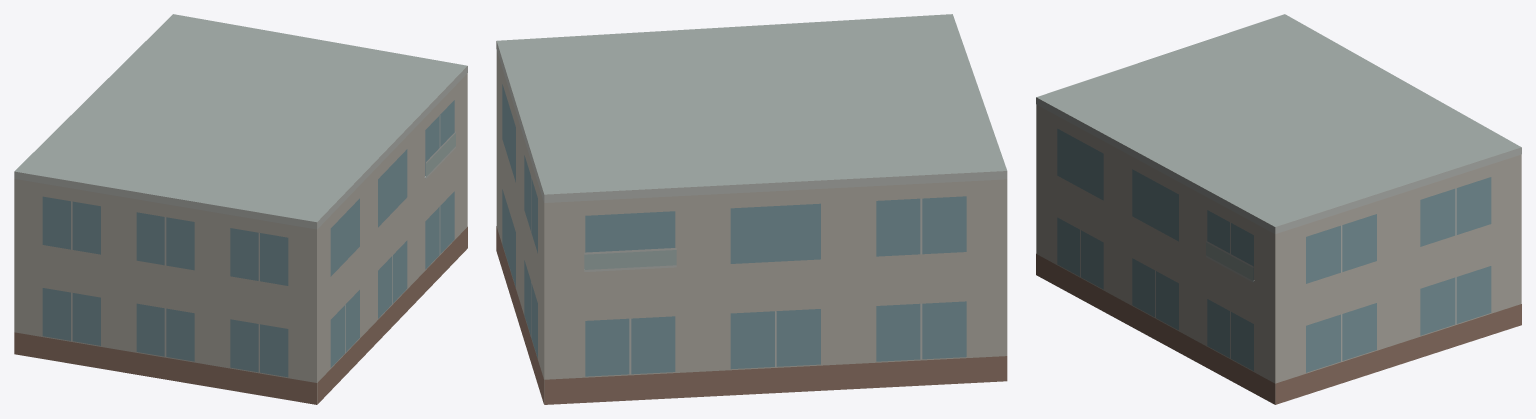
File: survey-upis-32706247.glb
3 renders of one model, left to right at view 1: azimuth 30°, elevation 25°; view 2: azimuth 150°, elevation 25°; view 3: azimuth 270°, elevation 25°, orthographic. The views are drawn at different scales.
Parts seen in each view (by area): view 1: survey-upis-32706247.tmp; view 2: survey-upis-32706247.tmp; view 3: survey-upis-32706247.tmp.
Boxes of the visible parts, bbox=[...] form: survey-upis-32706247.tmp: bbox=[14, 14, 467, 404]; survey-upis-32706247.tmp: bbox=[496, 14, 1007, 404]; survey-upis-32706247.tmp: bbox=[1036, 14, 1521, 404].
Size of the model in its own units: 15.69 by 6.1 by 15.11.
